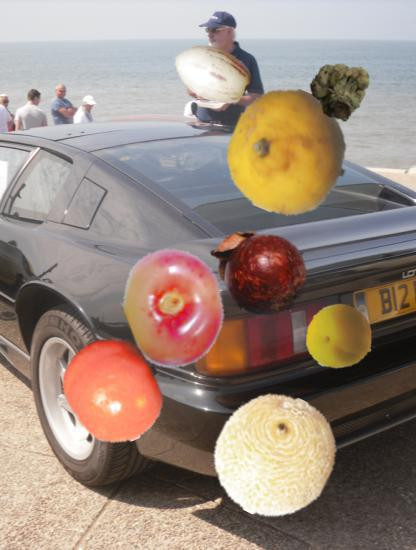Cantaloupe: (212, 393, 338, 519)
Cauliflower: (309, 60, 369, 120)
Cherry: (113, 246, 236, 369)
Clementine: (61, 337, 169, 445)
Lemon: (227, 90, 353, 216)
Mangostan: (213, 221, 312, 320)
Peach: (306, 304, 374, 372)
Pepino: (172, 33, 250, 111)
